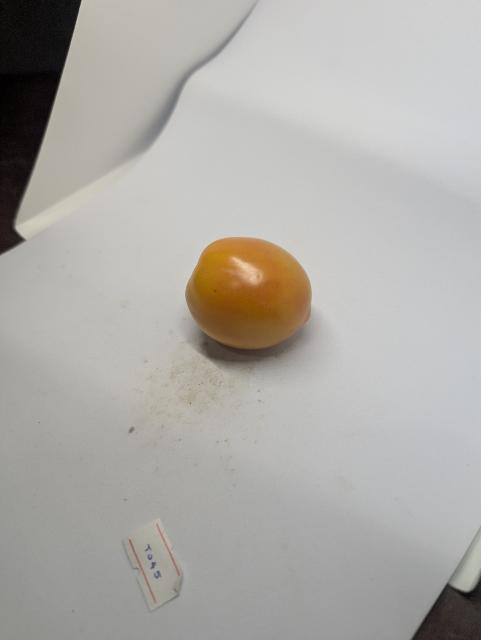turning: (184, 229, 325, 355)
